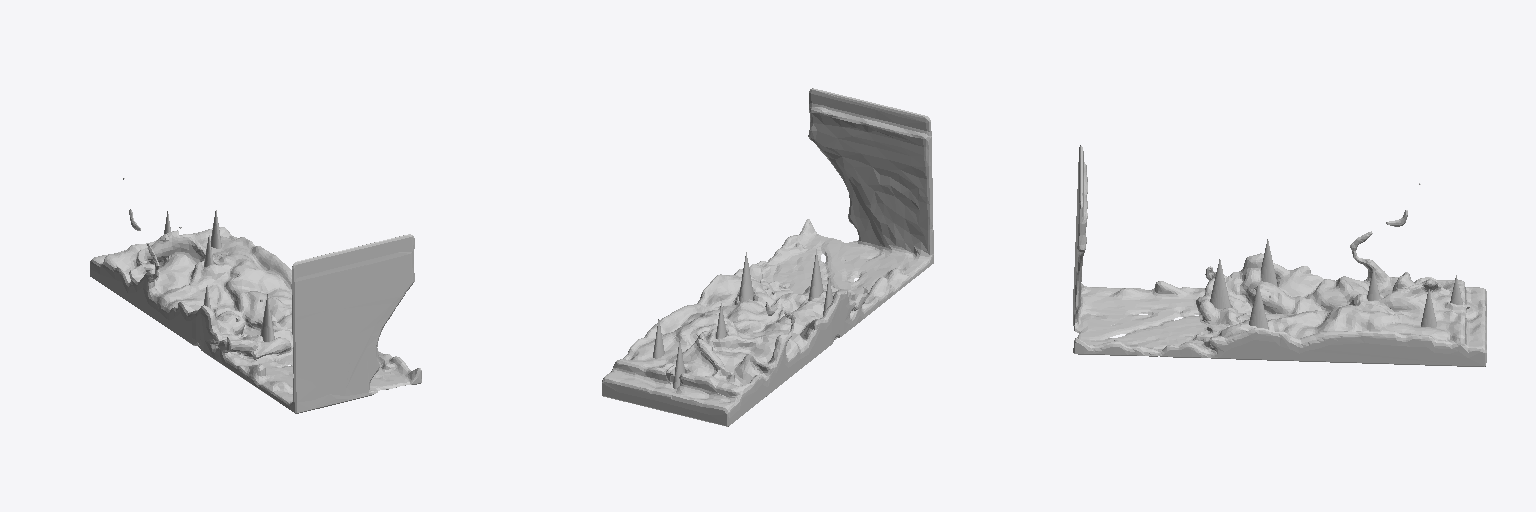
3 renders of one model, left to right at view 1: azimuth 30°, elevation 25°; view 2: azimuth 150°, elevation 25°; view 3: azimuth 270°, elevation 25°, orthographic.
Parts seen in each view (by area): view 1: Liquid_Domain; view 2: Liquid_Domain; view 3: Liquid_Domain, 円錐.001.
Part boxes in pixels (x1,y1,x2,y2): Liquid_Domain: (90, 178, 421, 413); Liquid_Domain: (602, 88, 933, 426); Liquid_Domain: (1073, 145, 1486, 366); 円錐.001: (1210, 259, 1230, 308).
Size of the model in its own units: 129 by 157 by 361.